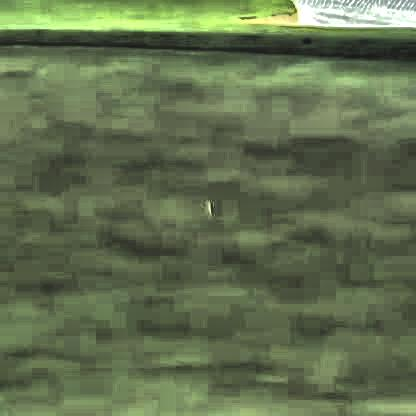golfball: (201, 191, 212, 213)
